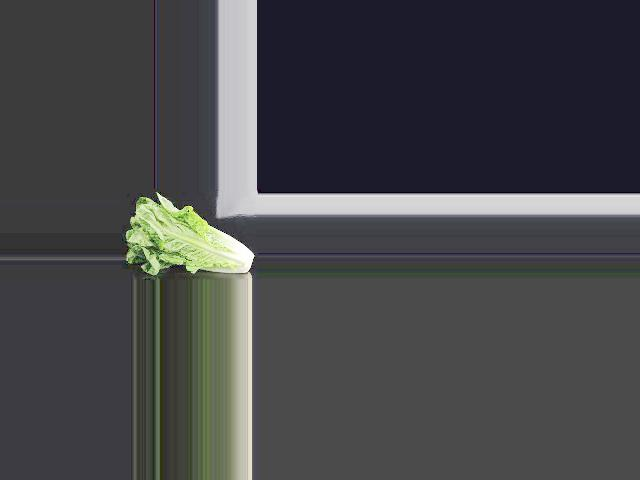lettuce: (123, 193, 255, 275)
